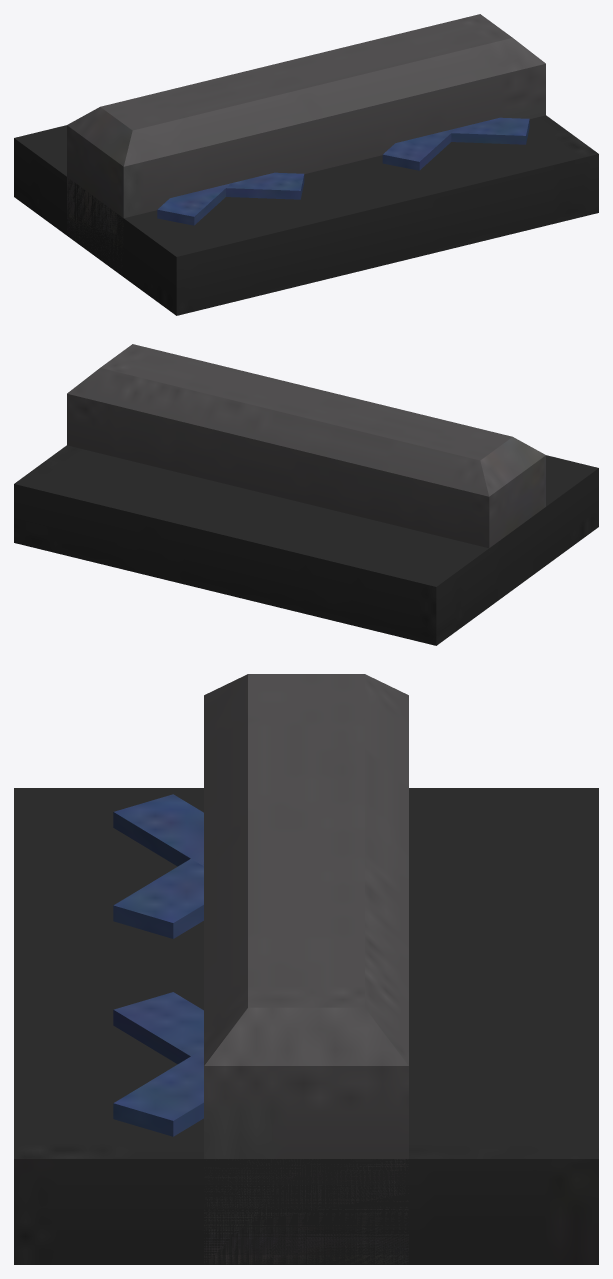
The model's file is express-splitter.glb.
3 renders of one model, top to bottom at view 1: azimuth 30°, elevation 25°; view 2: azimuth 150°, elevation 25°; view 3: azimuth 270°, elevation 25°, orthographic. The views are drawn at different scales.
Visible parts, largest first — view 1: express-splitter; view 2: express-splitter; view 3: express-splitter.
Part boxes in pixels (x1,y1,x2,y2): express-splitter: (14, 14, 598, 315); express-splitter: (14, 344, 598, 645); express-splitter: (14, 674, 598, 1264).
Bounding box in the file's own units: 0.3 × 0.09 × 0.2.
Materials: 1 (1 with a texture image).
